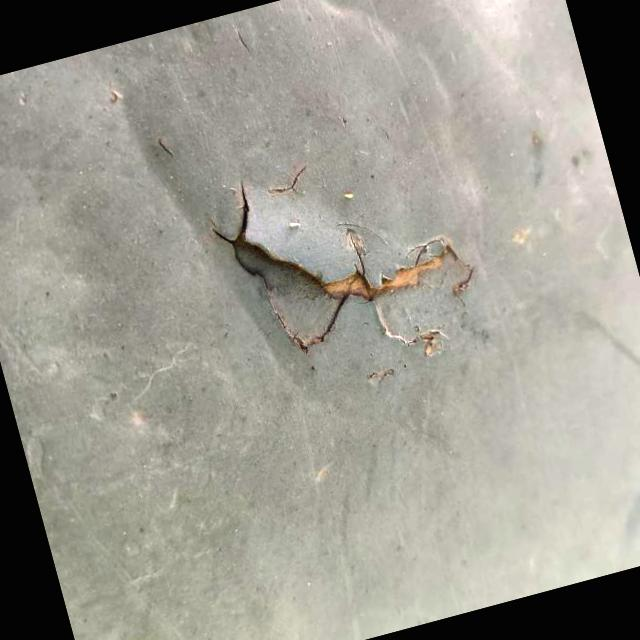crack: (222, 186, 526, 513)
